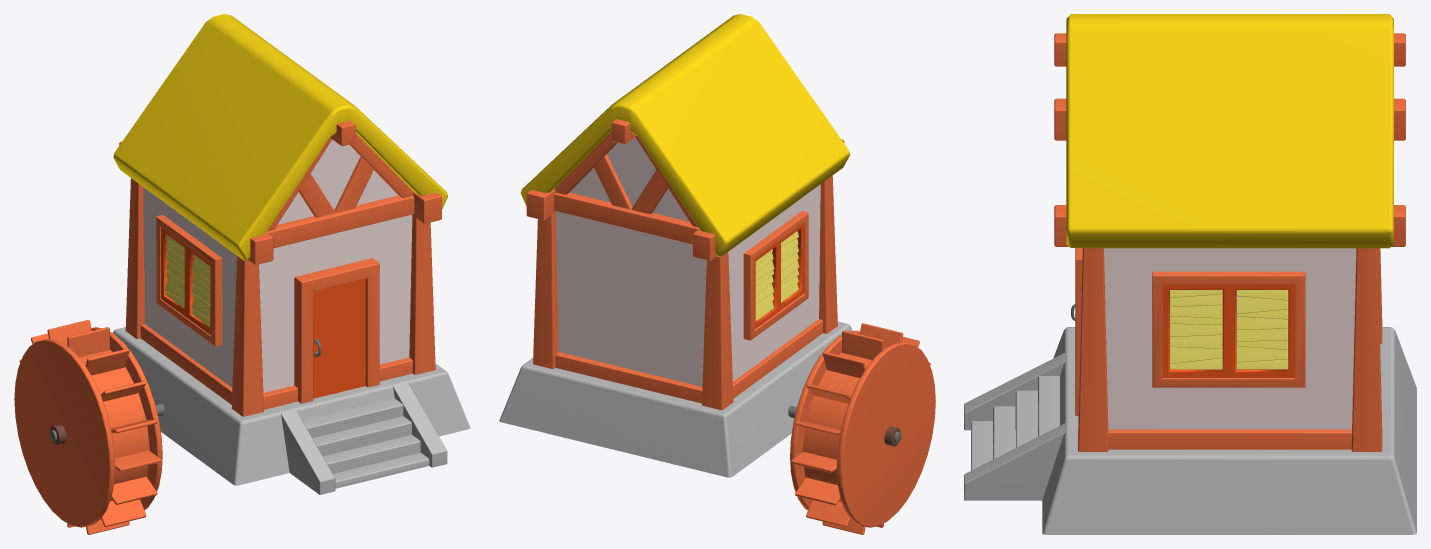
The model's file is Farm_7_Water_mill_1.glb.
The picture shows the model from 3 angles, left to right: view 1: azimuth 30°, elevation 25°; view 2: azimuth 150°, elevation 25°; view 3: azimuth 270°, elevation 25°; orthographic projection. The views are drawn at different scales.
Visible parts, largest first — view 1: Farm_7_Water_mill_1; view 2: Farm_7_Water_mill_1; view 3: Farm_7_Water_mill_1.
Boxes of the visible parts, bbox=[...] form: Farm_7_Water_mill_1: bbox=[14, 14, 470, 534]; Farm_7_Water_mill_1: bbox=[499, 14, 935, 534]; Farm_7_Water_mill_1: bbox=[964, 14, 1416, 534].
Size of the model in its own units: 7.33 by 8.65 by 6.54.
Materials: 1 (1 with a texture image).
